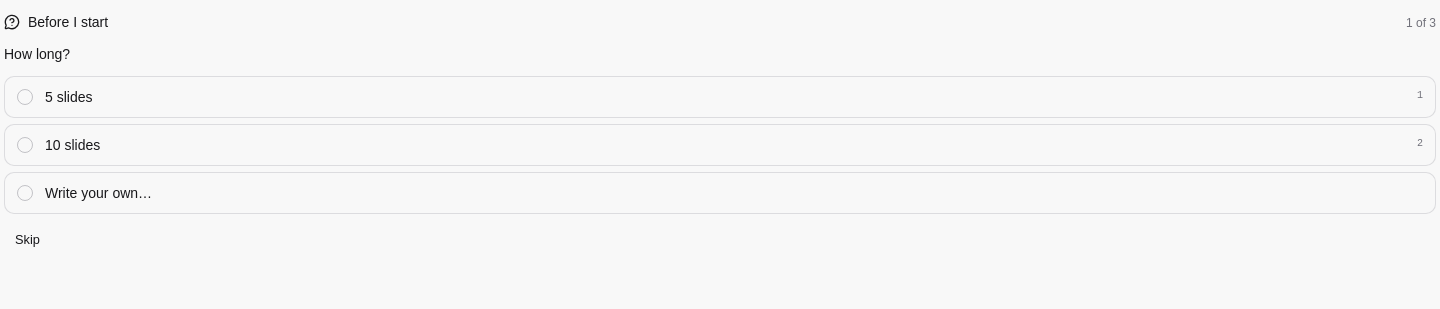
Test case: AgentQuestions › lets the user revisit an answered question from the trail
Later steps or results of the test are not shown.
Click the button "5 slides 1" at (69, 97), box [4,76,1436,118]
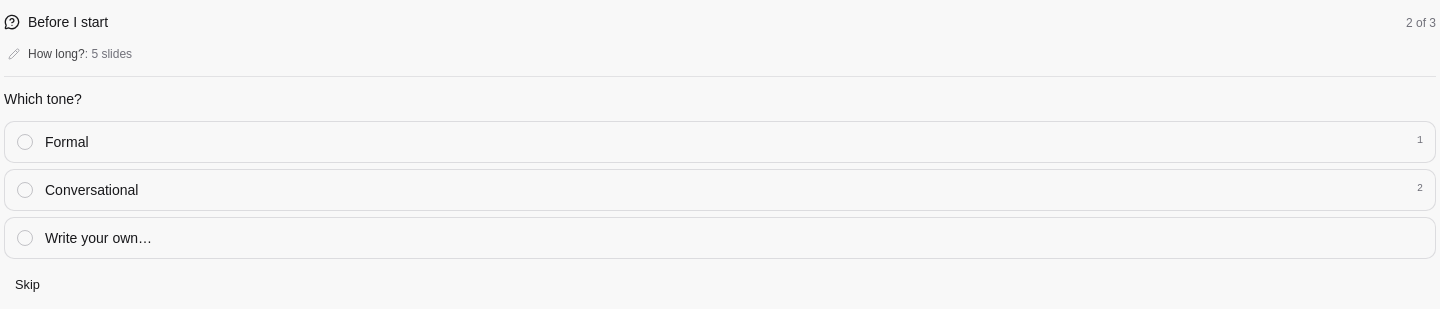
Check: the text "How long?" is shown, box [28,47,85,61]
Check: the text ": 5 slides" is shown, box [85,47,132,61]
Click the button "How long?: 5 slides" at (56, 54), box [4,44,1436,64]
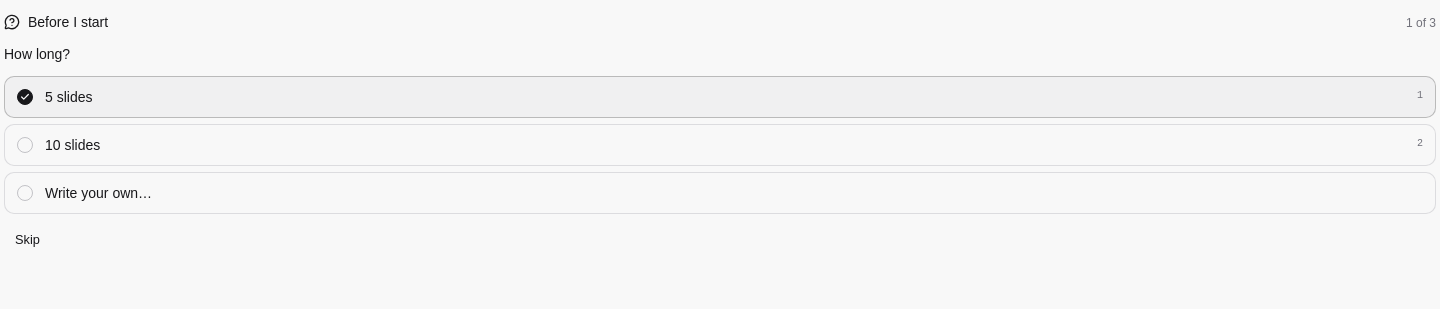
Check: the text "How long?" is shown, box [4,46,70,62]
